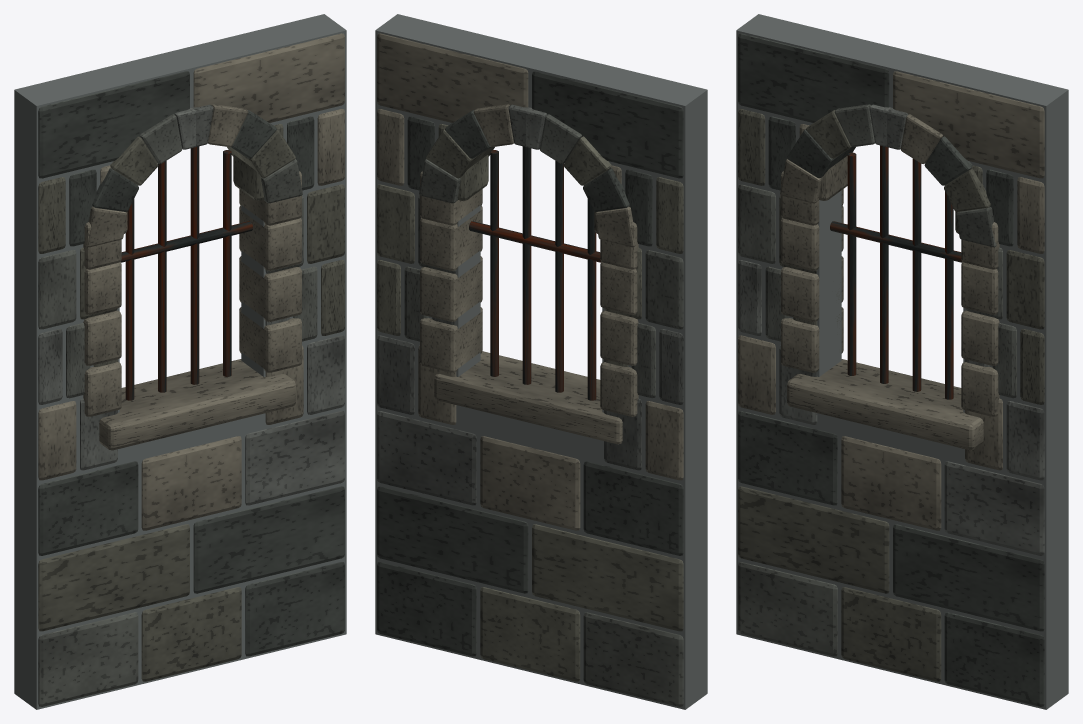
The picture shows the model from 3 angles, left to right: view 1: azimuth 30°, elevation 25°; view 2: azimuth 150°, elevation 25°; view 3: azimuth 330°, elevation 25°; orthographic projection.
Parts seen in each view (by area): view 1: PM005_Mesh, PM005_Mortar_Core; view 2: PM005_Mesh, PM005_Mortar_Core; view 3: PM005_Mesh, PM005_Mortar_Core.
Part boxes in pixels (<box>): PM005_Mesh: <box>38,33,344,706</box>; PM005_Mortar_Core: <box>14,14,346,709</box>; PM005_Mesh: <box>377,33,683,706</box>; PM005_Mortar_Core: <box>375,14,707,709</box>; PM005_Mesh: <box>738,33,1044,706</box>; PM005_Mortar_Core: <box>736,14,1068,709</box>.
Size of the model in its own units: 1.72 by 3.2 by 0.375.
Materials: 7 (6 with a texture image).
